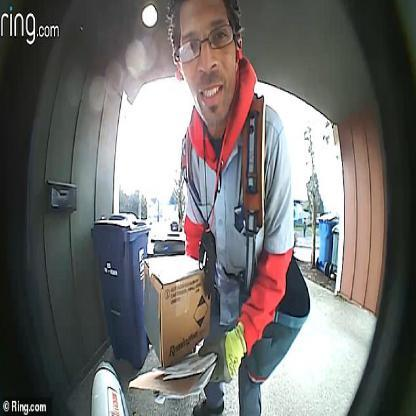package: (140, 247, 217, 375)
